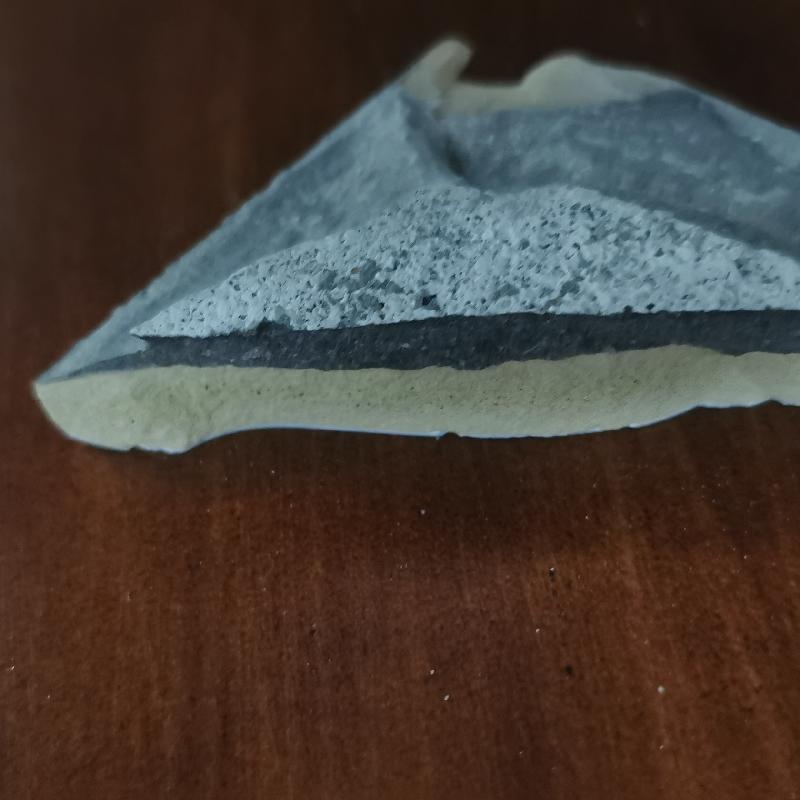tile: (42, 39, 800, 458)
